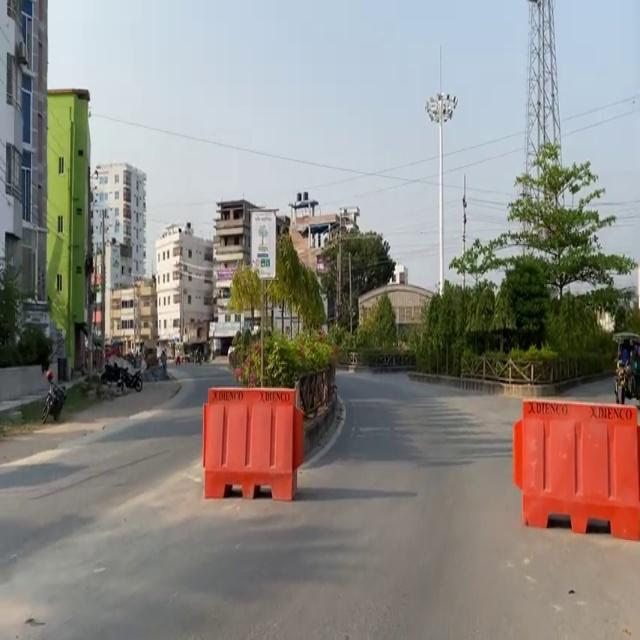Car: (512, 397, 639, 541), (201, 385, 303, 500)
Construction-barrier: (406, 367, 614, 398), (0, 372, 88, 426), (299, 388, 346, 468)
Fallen-tree: (39, 369, 67, 424), (99, 360, 143, 395), (613, 357, 639, 405)
Rickshaw: (249, 209, 277, 280)
